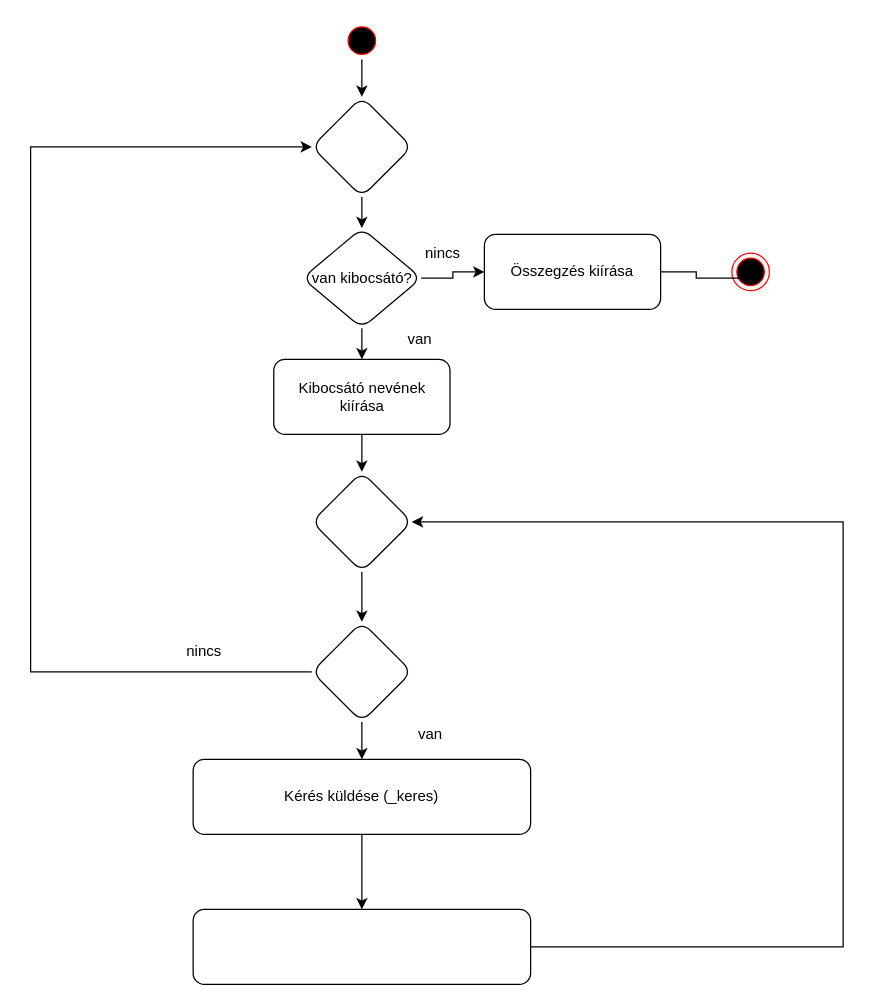
The diagram is 875 pixels wide and 1006 high, and some of its shapes have lost their labels. Each missing label, with the centre of its shape:
"Találat kiértékelése és kiírása" goes at (x=361, y=946).
"van alak?" goes at (x=361, y=671).
